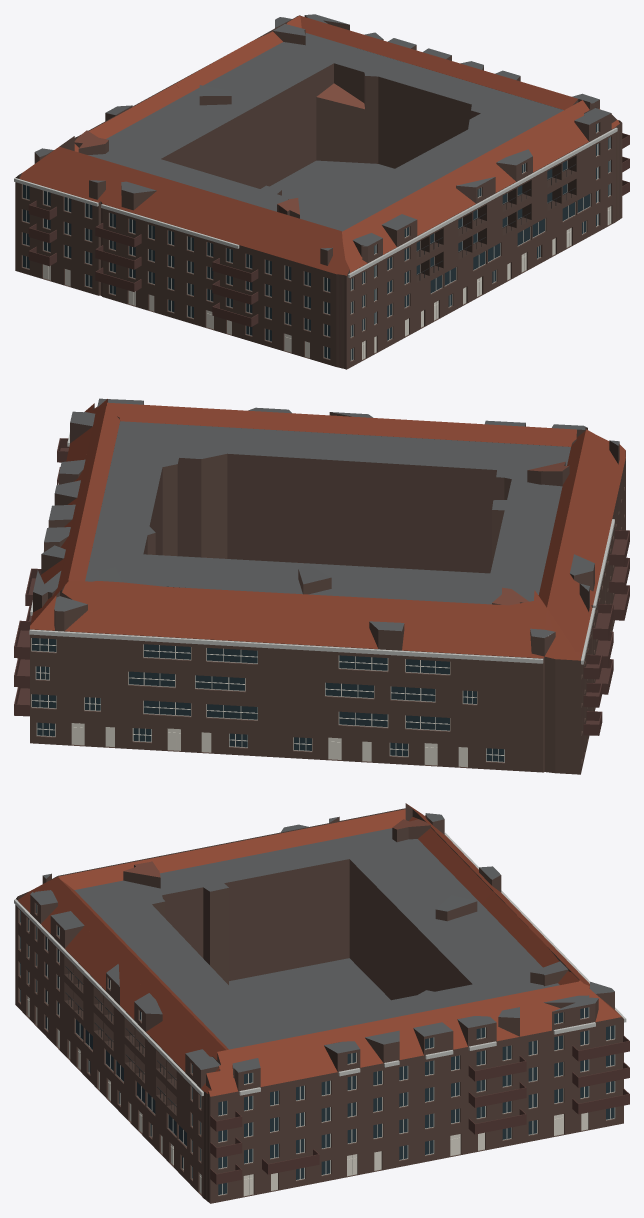
File: recipe-large-laing-s-nekstraat-1-17-241221.glb
3 renders of one model, top to bottom at view 1: azimuth 30°, elevation 25°; view 2: azimuth 150°, elevation 25°; view 3: azimuth 270°, elevation 25°, orthographic. The views are drawn at different scales.
Parts seen in each view (by area): view 1: laing-s-nekstraat-1-17-241221; view 2: laing-s-nekstraat-1-17-241221; view 3: laing-s-nekstraat-1-17-241221.
Part boxes in pixels (<box>): laing-s-nekstraat-1-17-241221: <box>14,14,629,369</box>; laing-s-nekstraat-1-17-241221: <box>14,398,629,774</box>; laing-s-nekstraat-1-17-241221: <box>14,803,629,1203</box>.
Bounding box in the file's own units: 74.43 × 17.88 × 67.64.
